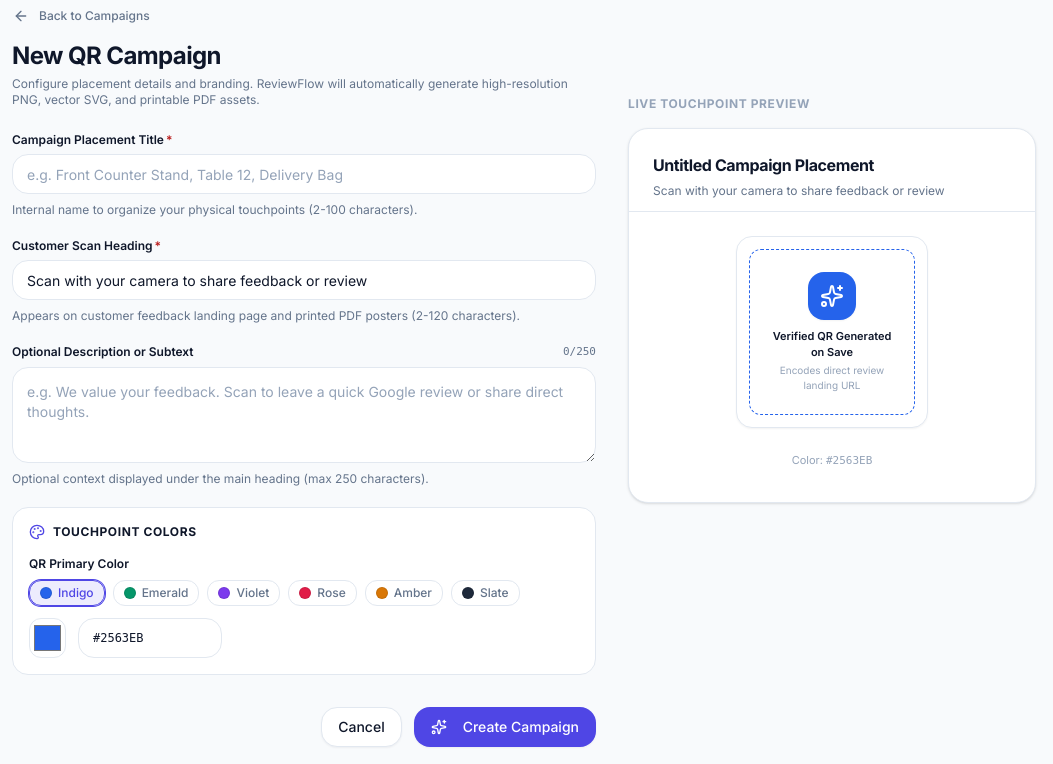
it: CampaignForm Component › should update primary color when clicking color presets
The image size is (1053, 764).
Click the button with aria-label "select emerald color": [156, 592] box [113,580,199,606]
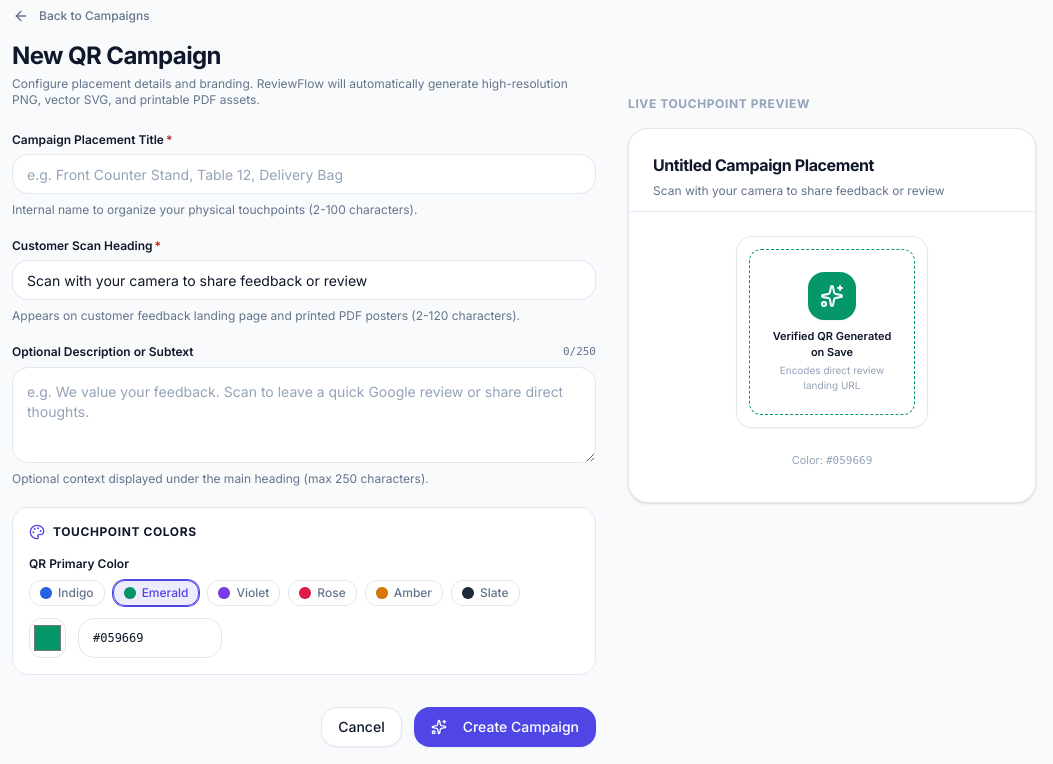
Now the text "#059669" is shown, box [826,454,872,467]
